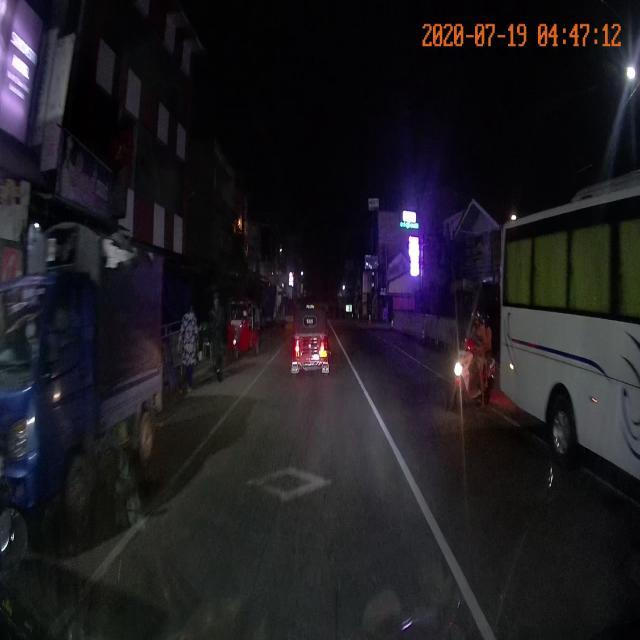diamond: (145, 464, 424, 505)
